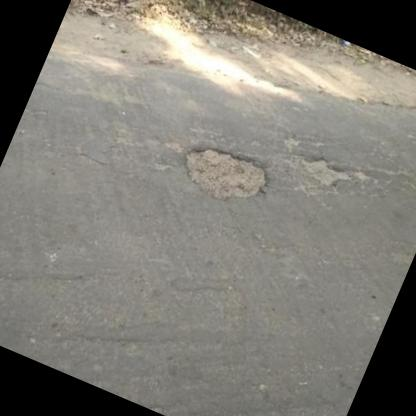pothole: (171, 131, 275, 216), (294, 148, 356, 195)
